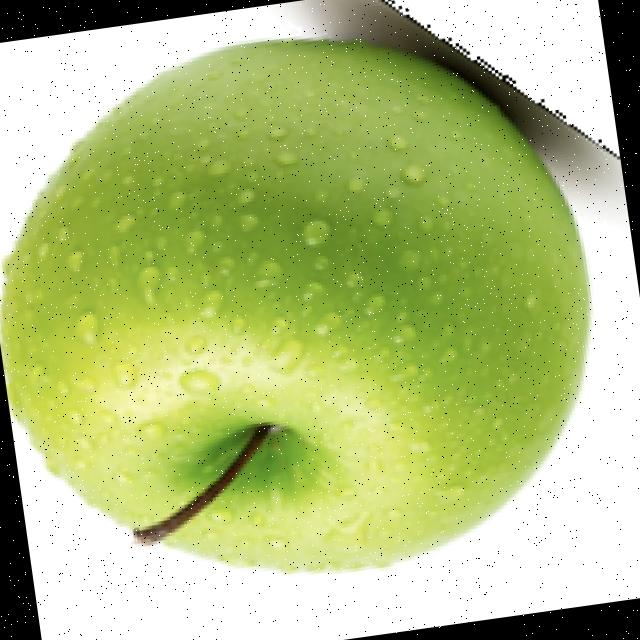apple: (0, 0, 624, 578)
